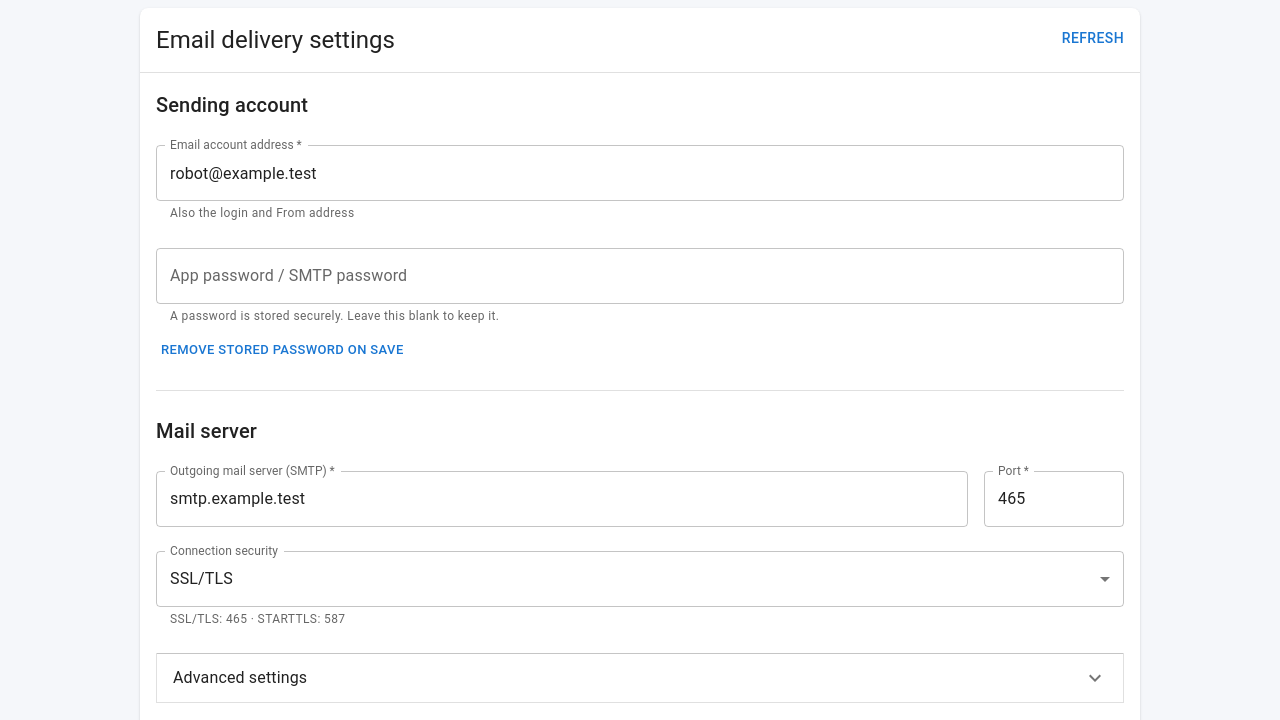
Test case: SMTP setup interaction › allows undoing password removal before saving
This screenshot has width=1280, height=720.
Click the button "Remove stored password on save" at point(282, 350), box [156,335,409,366]
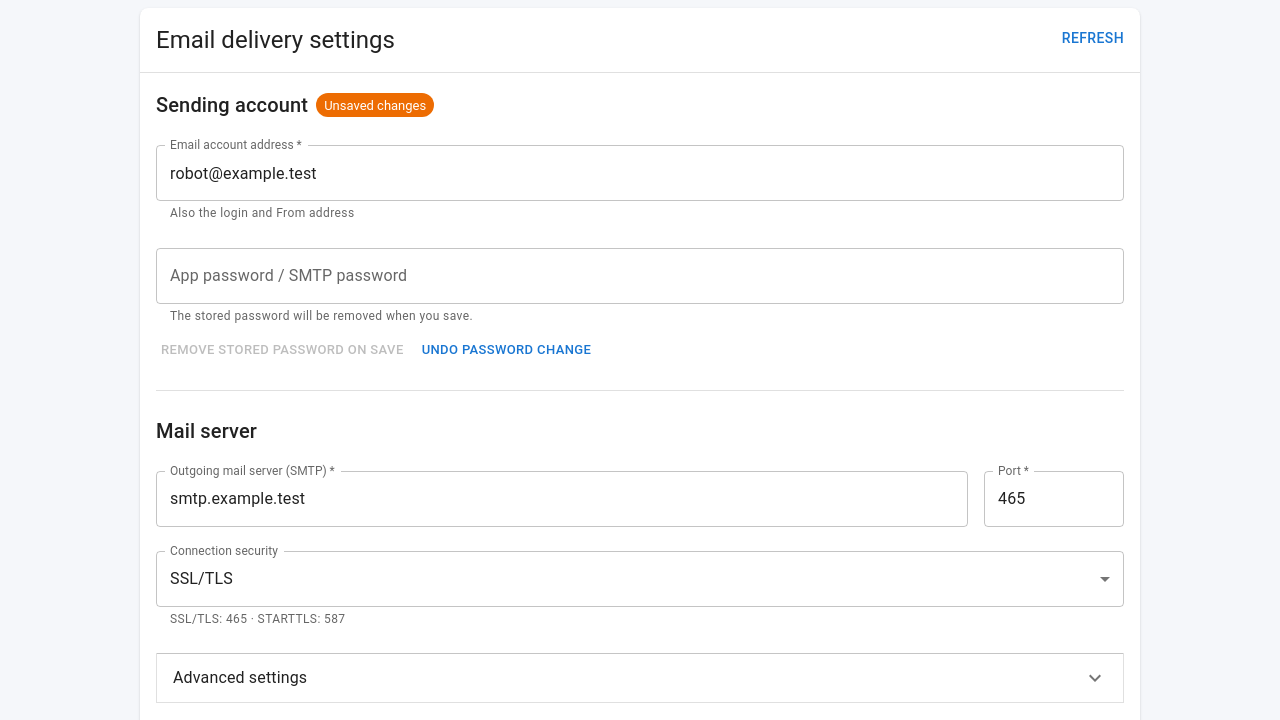
Expected: the text "The stored password will be removed when you save." is shown, [170,309,473,323]
Click the button "Undo password change" at point(506, 350), box [417,335,596,366]
(page scrolled)
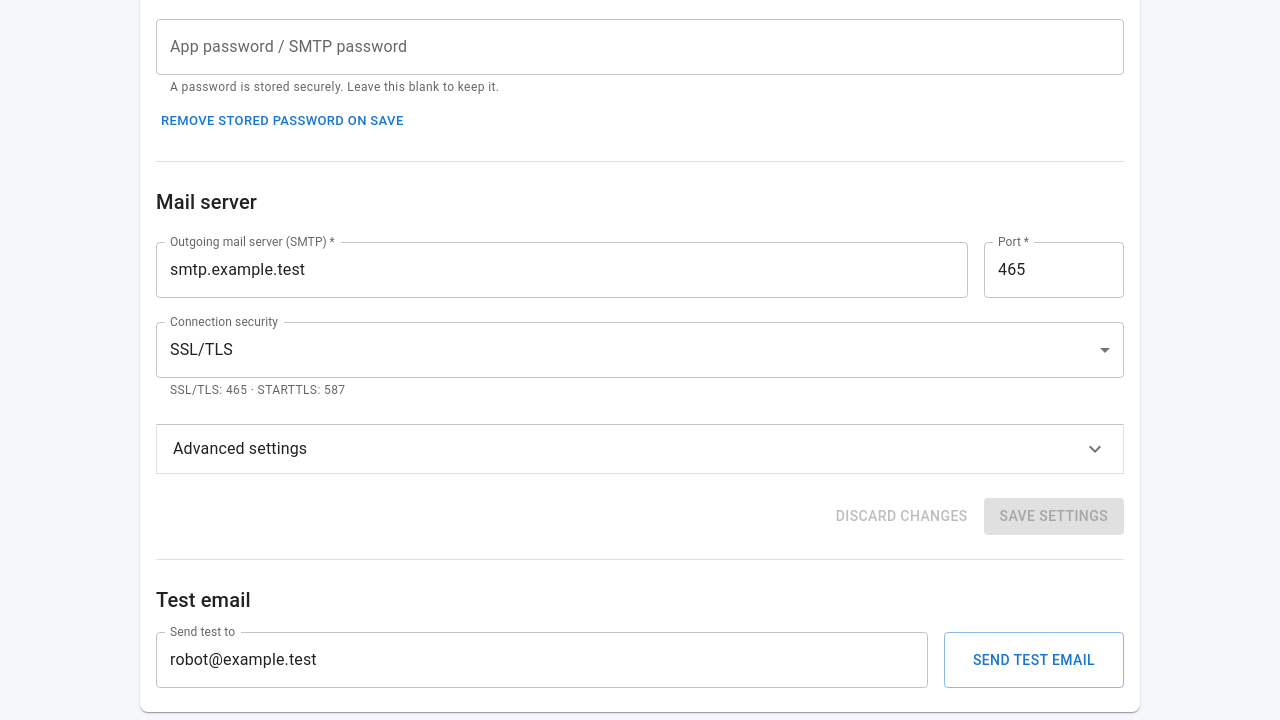
Expected: the button "Save settings" is disabled, [984,498,1124,535]
